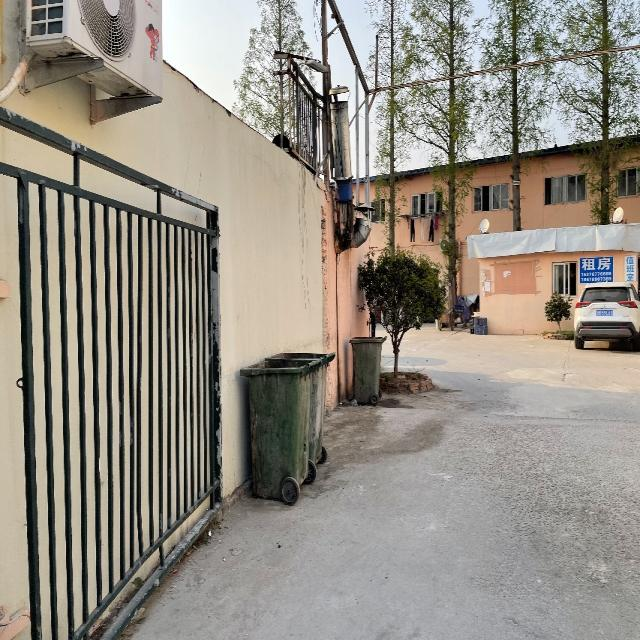garbage_bin: (238, 352, 332, 500), (348, 335, 387, 404)
